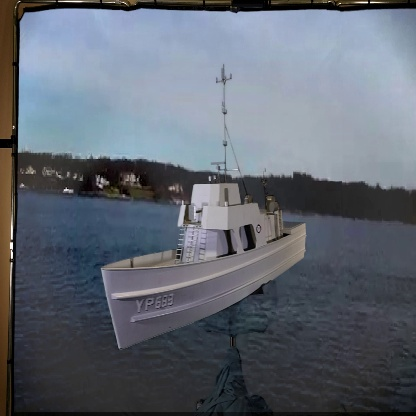YP689: (101, 67, 308, 351)
